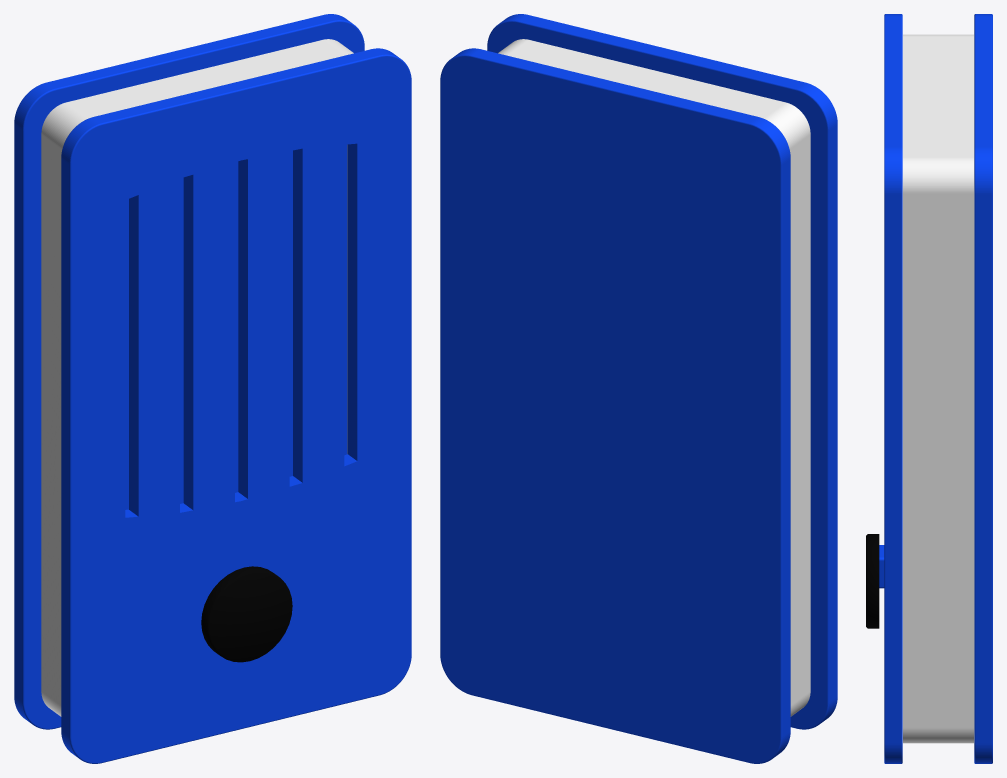
File: radio.glb
3 renders of one model, left to right at view 1: azimuth 30°, elevation 25°; view 2: azimuth 150°, elevation 25°; view 3: azimuth 270°, elevation 25°, orthographic. The views are drawn at different scales.
Visible parts, largest first — view 1: Cube.001_2, Cube_3, Cylinder.001_1; view 2: Cube.001_2, Cube_3; view 3: Cube_3, Cube.001_2, Cylinder.001_1, Cube.003_0.
Boxes of the visible parts, box(x1,y1,x2,y2) form: Cube.001_2: box(14, 14, 411, 763); Cube_3: box(41, 39, 353, 716); Cylinder.001_1: box(201, 566, 292, 662); Cube.001_2: box(440, 14, 837, 763); Cube_3: box(498, 39, 810, 716); Cube_3: box(903, 34, 973, 743); Cube.001_2: box(884, 14, 992, 763); Cylinder.001_1: box(866, 534, 879, 628); Cube.003_0: box(879, 545, 884, 588).
Size of the model in its own units: 2.12 by 3.8 by 0.7125.
